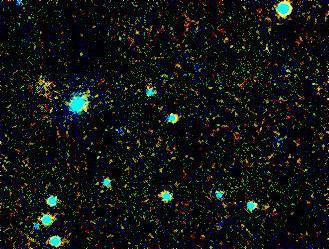star: (40, 80, 70, 110)
